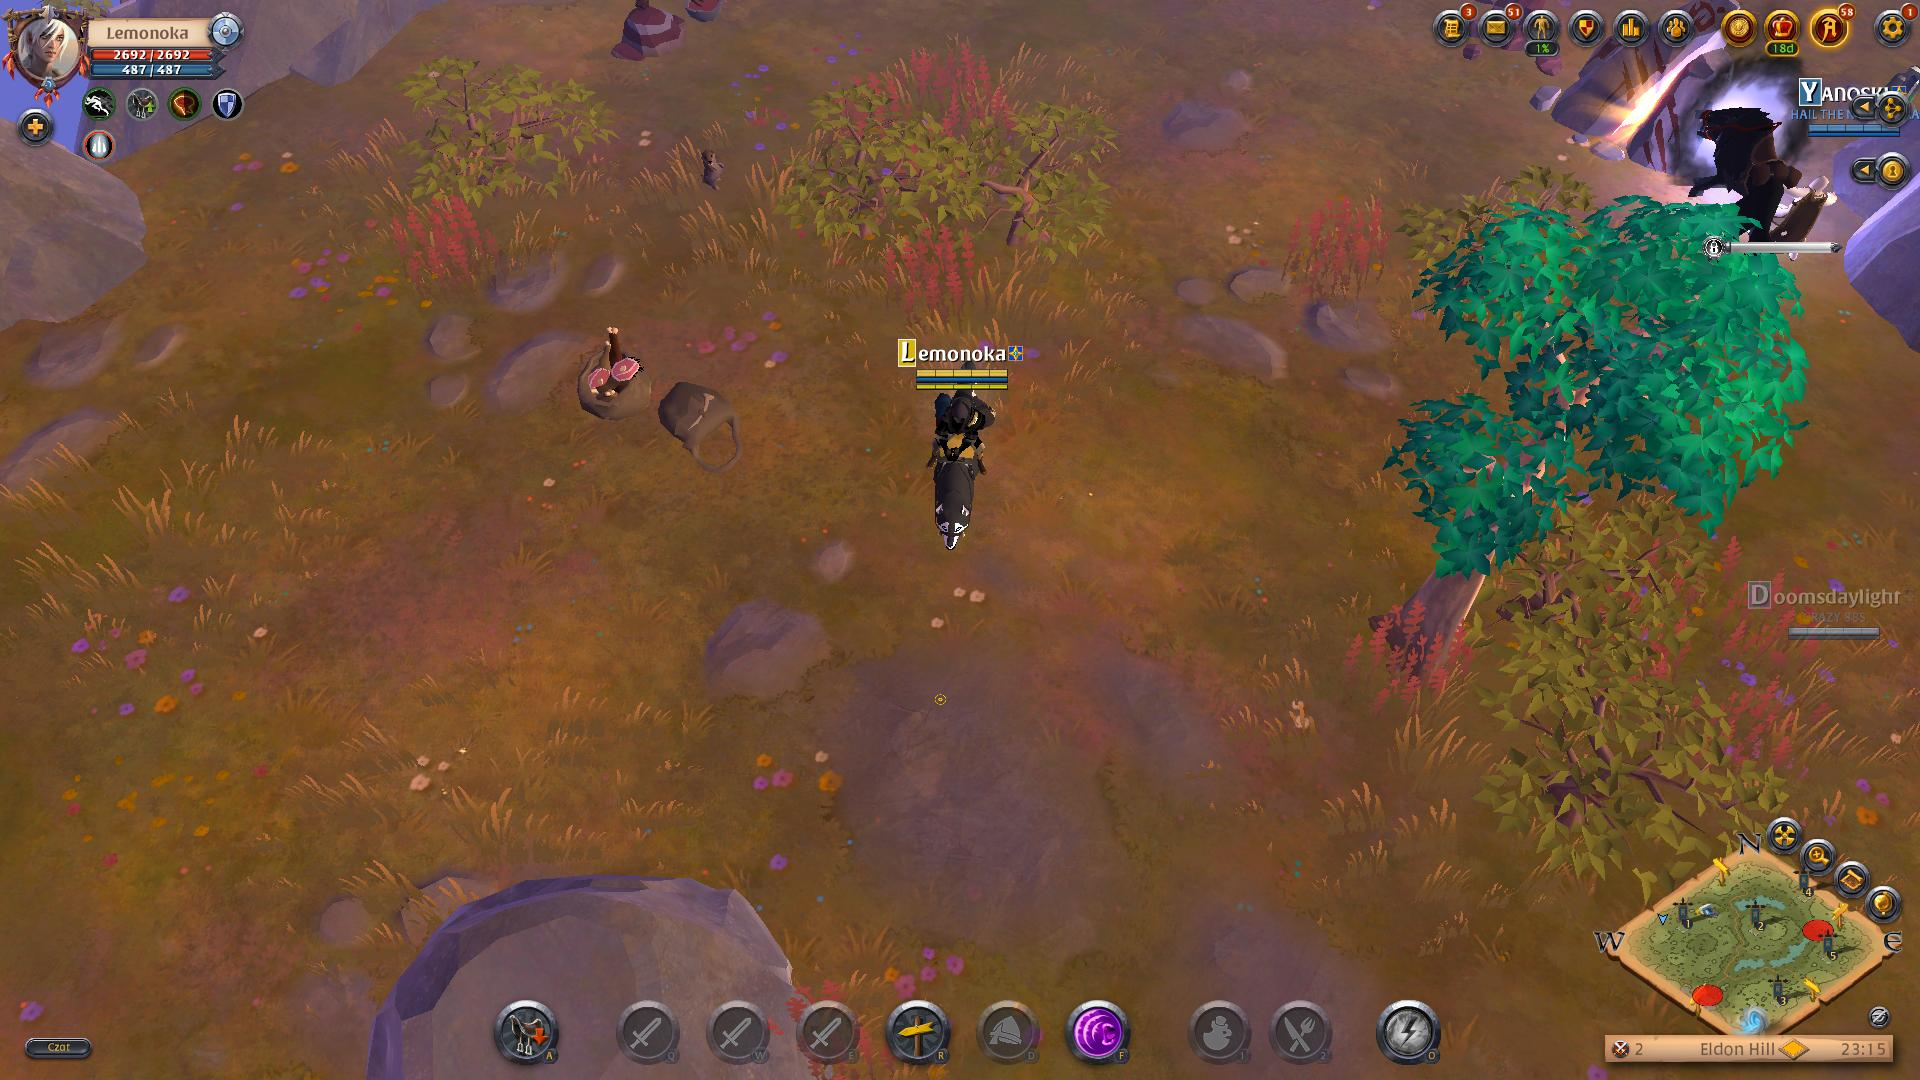wood tier 3: (1389, 204, 1818, 587)
